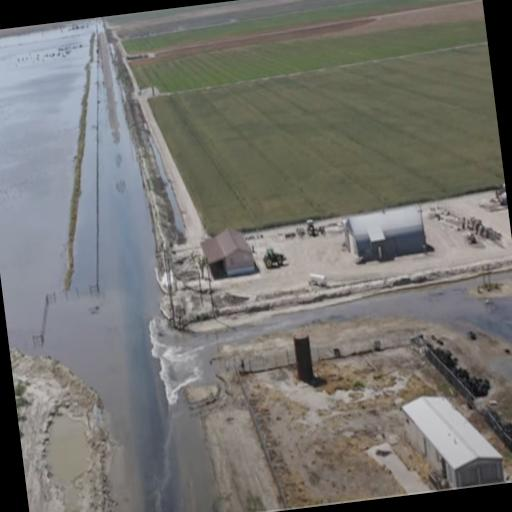flood: (0, 23, 216, 512), (280, 283, 512, 342), (44, 410, 89, 512), (183, 331, 233, 378)
house: (401, 383, 507, 494), (344, 203, 436, 271), (203, 220, 262, 282)
